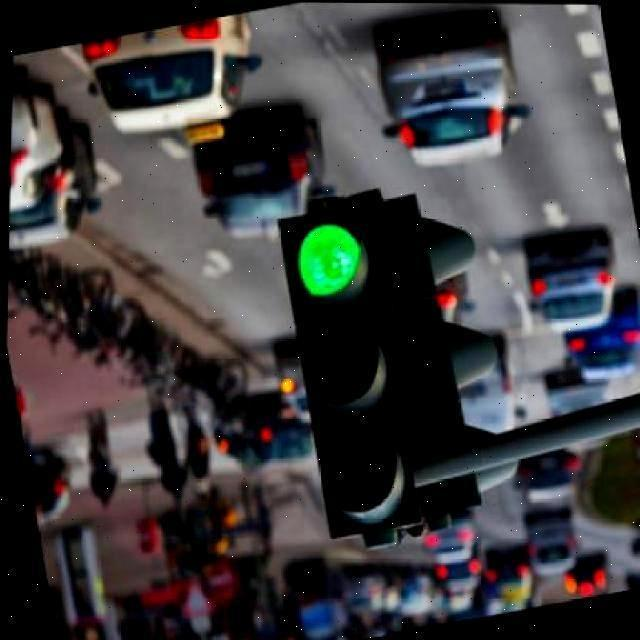Green: (256, 187, 505, 544)
